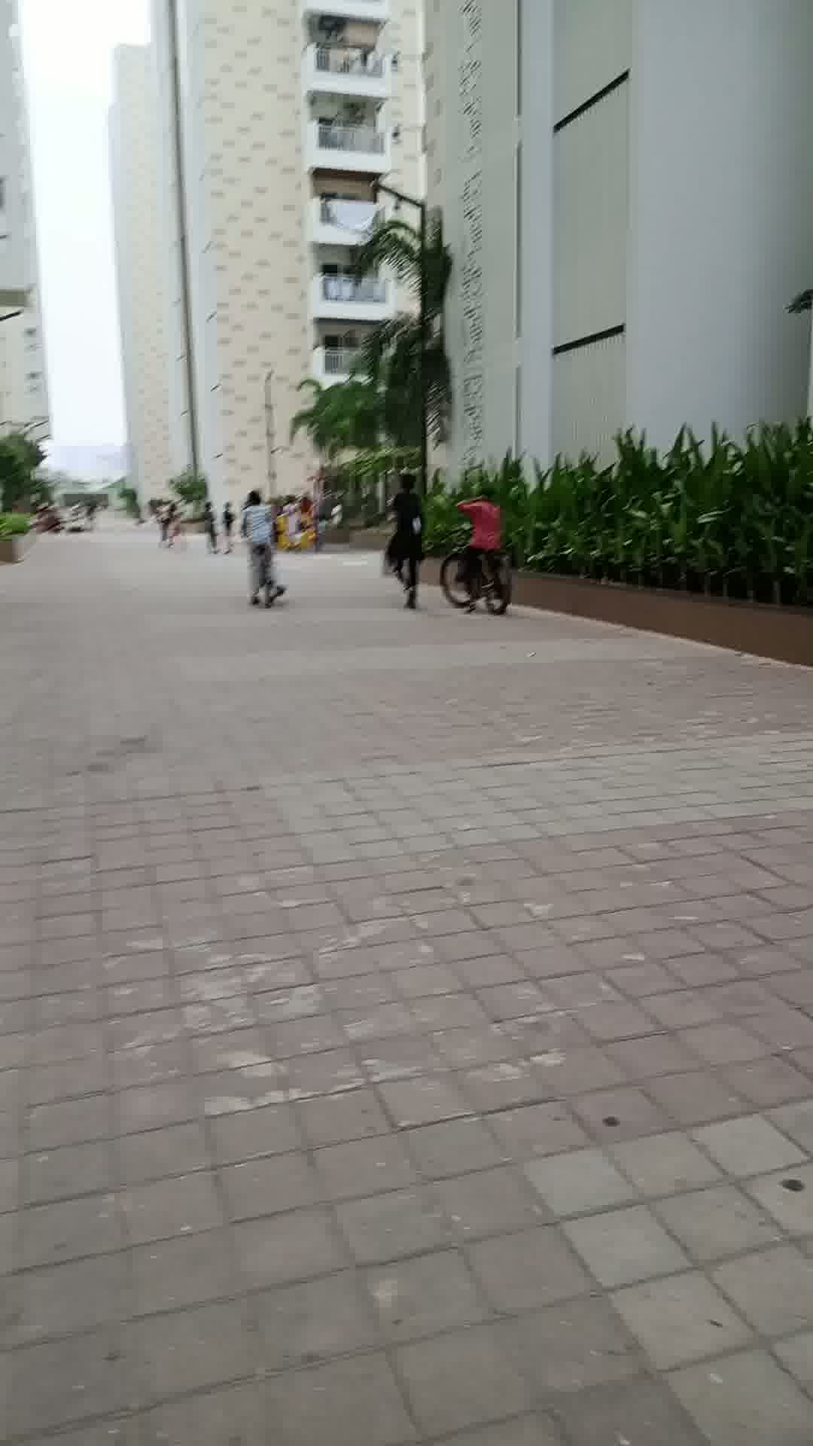bicycle: (432, 535, 538, 635)
person: (367, 461, 444, 635), (450, 473, 526, 621), (219, 473, 290, 618)
tree: (341, 171, 481, 461)
